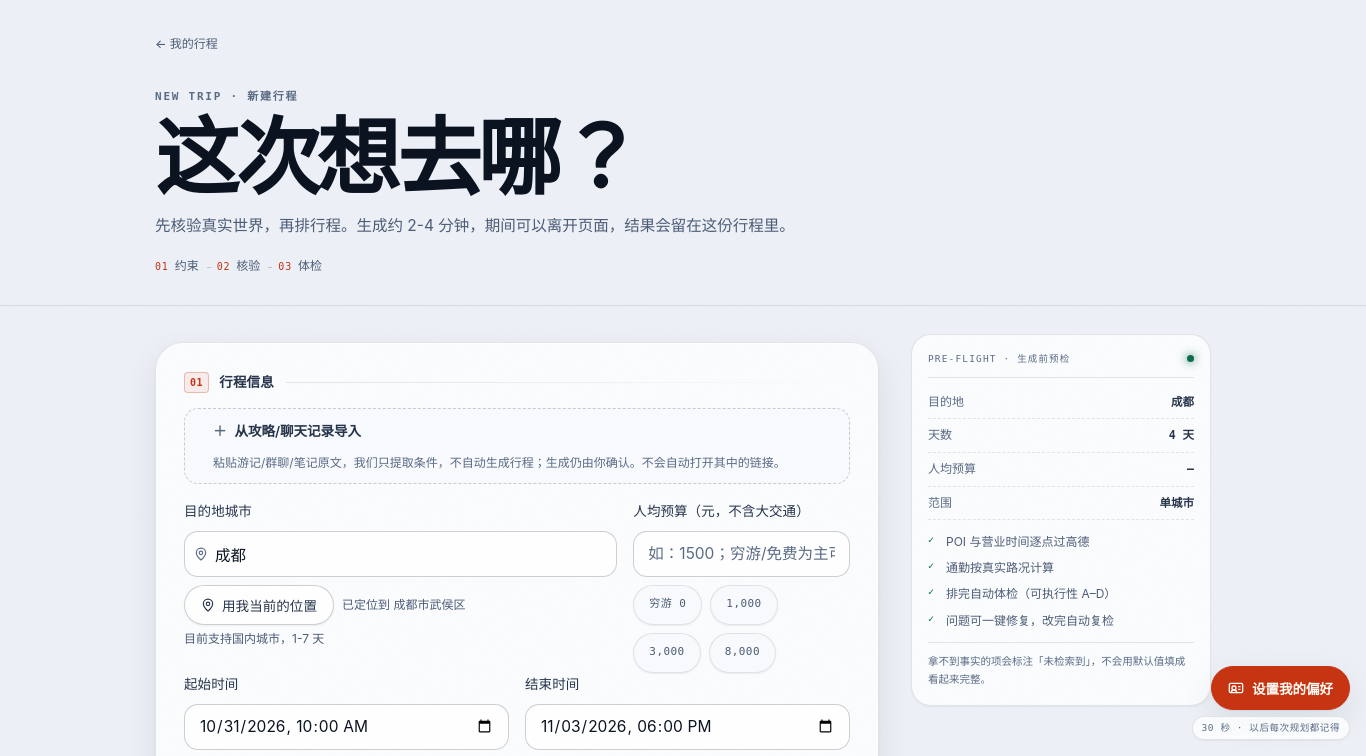
Test: Home 目的地城市默认值 › 定位成功时：预填定位城市，提交按钮恢复可用
The image size is (1366, 756).
Check: the dropdown with placeholder "如：成都" holds "成都", box [184,531,617,577]
# 定位 + 填预算后提交按钮恢复可用
In the number field with placeholder "如：1500；穷游/免费为主可填 0": point(742, 554) [633,531,850,577], type "3000"
(page scrolled)
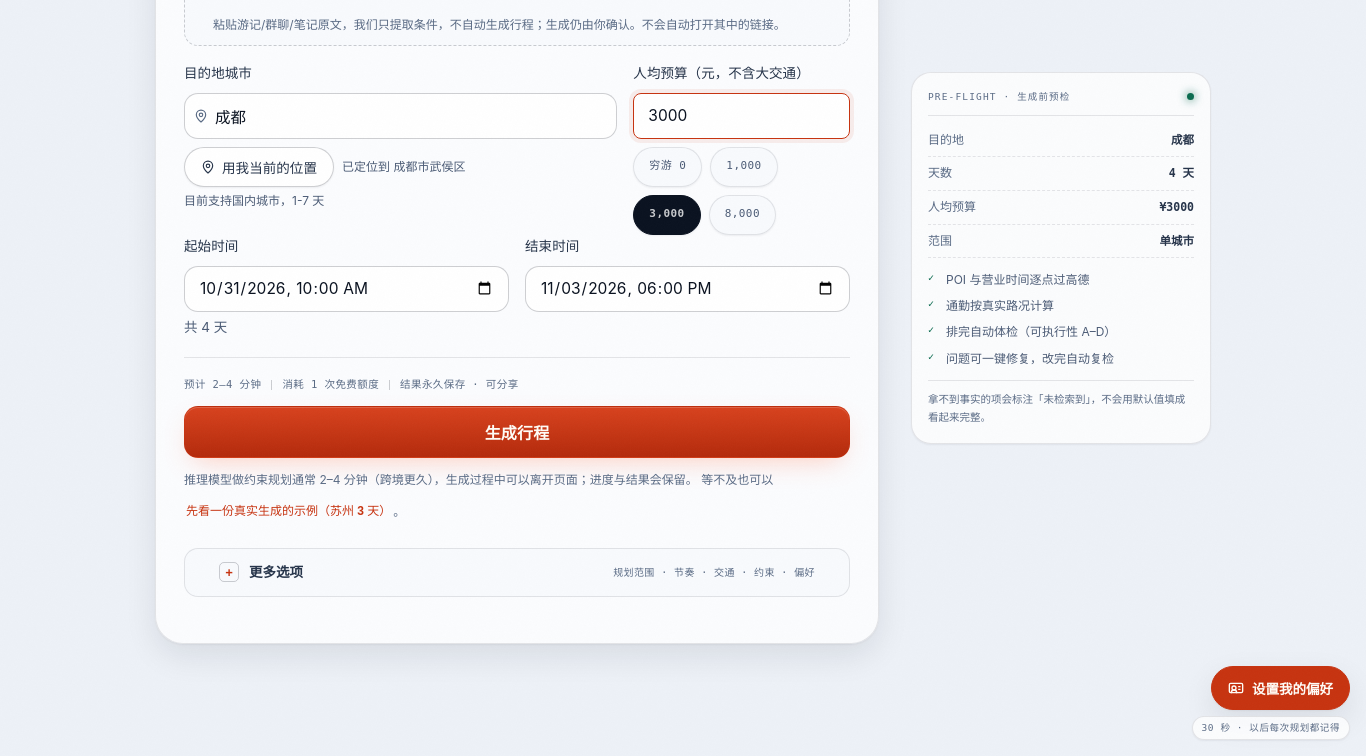
Check: the button "生成行程" is enabled, box [184,406,850,458]
